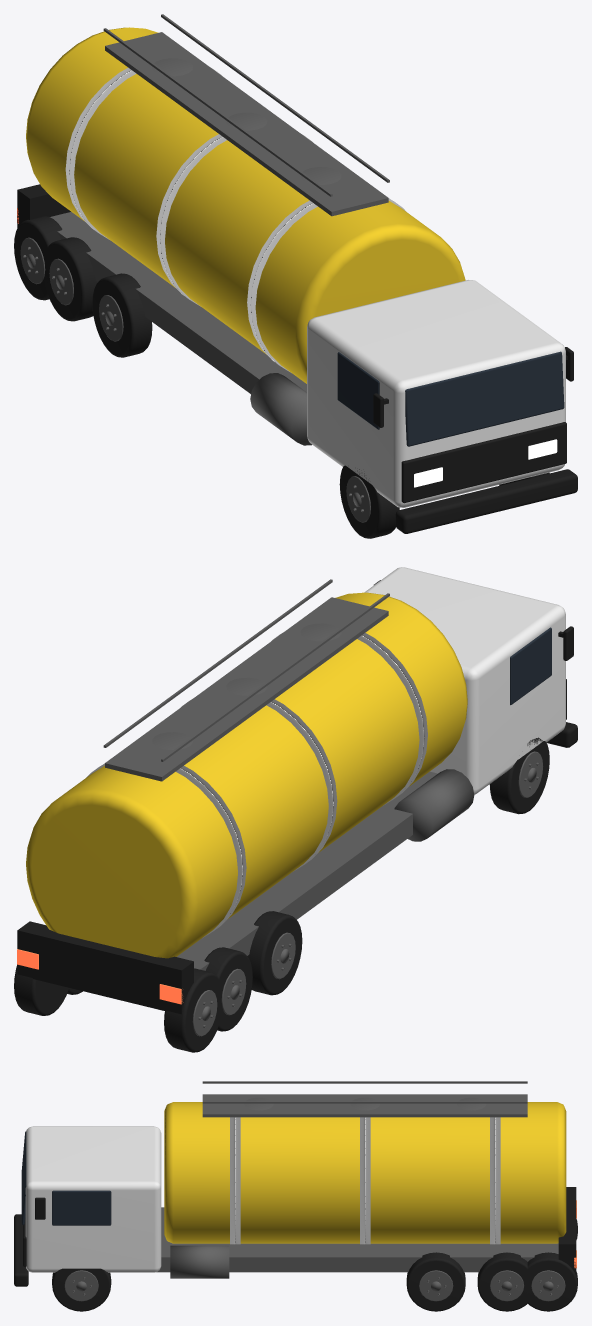
Rendered from tanker.glb.
3 renders of one model, top to bottom at view 1: azimuth 30°, elevation 25°; view 2: azimuth 150°, elevation 25°; view 3: azimuth 270°, elevation 25°, orthographic. The views are drawn at different scales.
Visible parts, largest first — view 1: V_tanker; view 2: V_tanker; view 3: V_tanker.
Part boxes in pixels (x1,y1,x2,y2): V_tanker: (14, 14, 577, 538); V_tanker: (14, 567, 577, 1052); V_tanker: (14, 1081, 577, 1311).
Size of the model in its own units: 2.72 by 3.57 by 9.55.
